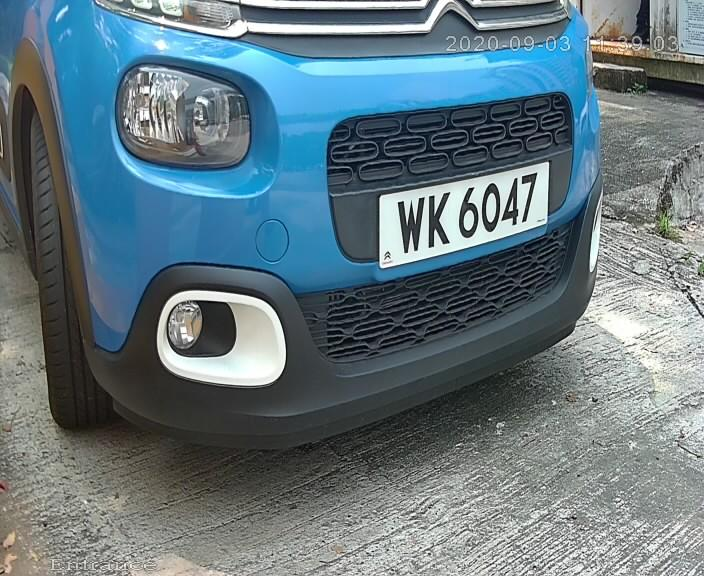License Plate: (371, 155, 557, 281)
